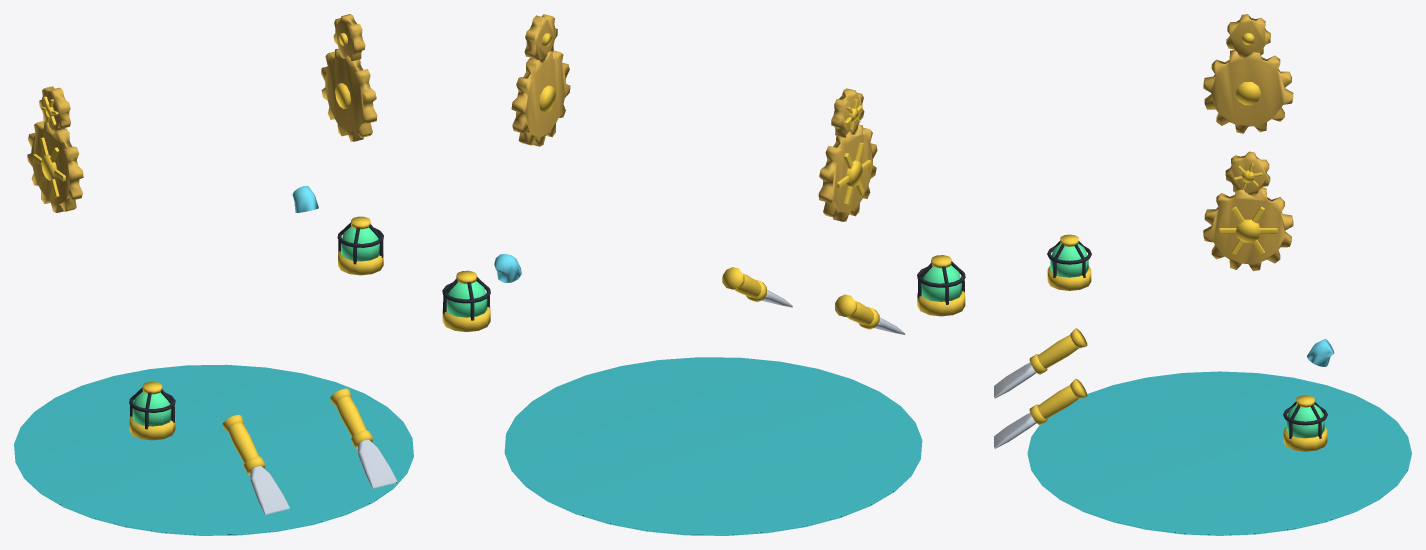
Rendered from ChiselMill_T5_Upgrades.fbx.
3 renders of one model, left to right at view 1: azimuth 30°, elevation 25°; view 2: azimuth 150°, elevation 25°; view 3: azimuth 270°, elevation 25°, orthographic. The views are drawn at different scales.
Visible parts, largest first — view 1: ChiselMillT5U5GlowWaterGlow, ChiselMillT5U3Gear2, ChiselMillT5U3Gear1, ChiselMillT5U1Chisels, ChiselMillT5U1Chisels2, ChiselMillT5U2Lamp1, ChiselMillT5U2Lamp2, ChiselMillT5U3Pinion1, ChiselMillT5U3Pinion2, ChiselMillT5U2Lamp2Glow, ChiselMillT5U2Lamp1Glow; view 2: ChiselMillT5U5GlowWaterGlow, ChiselMillT5U3Gear1, ChiselMillT5U3Gear2, ChiselMillT5U2Lamp1, ChiselMillT5U2Lamp2, ChiselMillT5U3Pinion2, ChiselMillT5U3Pinion1, ChiselMillT5U1Chisels2, ChiselMillT5U1Chisels, ChiselMillT5U2Lamp1Glow, ChiselMillT5U2Lamp2Glow; view 3: ChiselMillT5U5GlowWaterGlow, ChiselMillT5U3Gear2, ChiselMillT5U3Gear1, ChiselMillT5U1Chisels, ChiselMillT5U1Chisels2, ChiselMillT5U3Pinion1, ChiselMillT5U3Pinion2, ChiselMillT5U2Lamp2, ChiselMillT5U2Lamp1, ChiselMillT5U2Lamp1Glow, ChiselMillT5U2Lamp2Glow.
Boxes of the visible parts, x1,y1,x2,y2 form: ChiselMillT5U5GlowWaterGlow: (14,185,413,535); ChiselMillT5U3Gear2: (27,121,83,212); ChiselMillT5U3Gear1: (321,48,377,141); ChiselMillT5U1Chisels: (222,414,289,514); ChiselMillT5U1Chisels2: (330,388,397,488); ChiselMillT5U2Lamp1: (337,216,383,275); ChiselMillT5U2Lamp2: (129,381,175,440); ChiselMillT5U3Pinion1: (333,14,365,61); ChiselMillT5U3Pinion2: (39,86,70,133); ChiselMillT5U2Lamp2Glow: (132,391,171,426); ChiselMillT5U2Lamp1Glow: (341,226,379,261); ChiselMillT5U5GlowWaterGlow: (494,253,922,535); ChiselMillT5U3Gear1: (511,50,570,146); ChiselMillT5U3Gear2: (818,124,877,221); ChiselMillT5U2Lamp1: (442,270,490,331); ChiselMillT5U2Lamp2: (917,255,965,316); ChiselMillT5U3Pinion2: (831,88,864,137); ChiselMillT5U3Pinion1: (524,14,557,63); ChiselMillT5U1Chisels2: (722,267,792,307); ChiselMillT5U1Chisels: (835,294,905,334); ChiselMillT5U2Lamp1Glow: (446,281,487,317); ChiselMillT5U2Lamp2Glow: (921,265,961,301); ChiselMillT5U5GlowWaterGlow: (1027,338,1411,535); ChiselMillT5U3Gear2: (1203,49,1293,133); ChiselMillT5U3Gear1: (1203,187,1293,271); ChiselMillT5U1Chisels: (994,328,1087,398); ChiselMillT5U1Chisels2: (994,378,1087,448); ChiselMillT5U3Pinion1: (1225,151,1270,195); ChiselMillT5U3Pinion2: (1226,14,1270,58); ChiselMillT5U2Lamp2: (1047,234,1091,290); ChiselMillT5U2Lamp1: (1283,395,1327,451); ChiselMillT5U2Lamp1Glow: (1286,405,1324,438); ChiselMillT5U2Lamp2Glow: (1050,244,1088,277).
Bounding box in the file's own units: 515 × 515 × 504.
